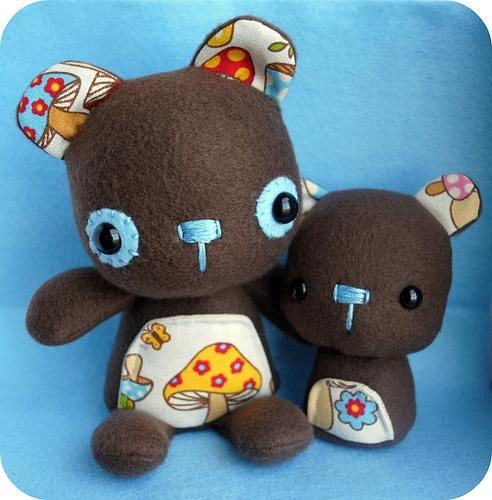mushroom: (162, 342, 262, 424), (18, 72, 88, 150), (307, 378, 357, 430), (200, 46, 255, 86), (120, 352, 154, 402), (83, 71, 122, 109), (425, 173, 476, 201), (264, 62, 296, 105), (450, 192, 480, 231), (119, 392, 135, 410)
